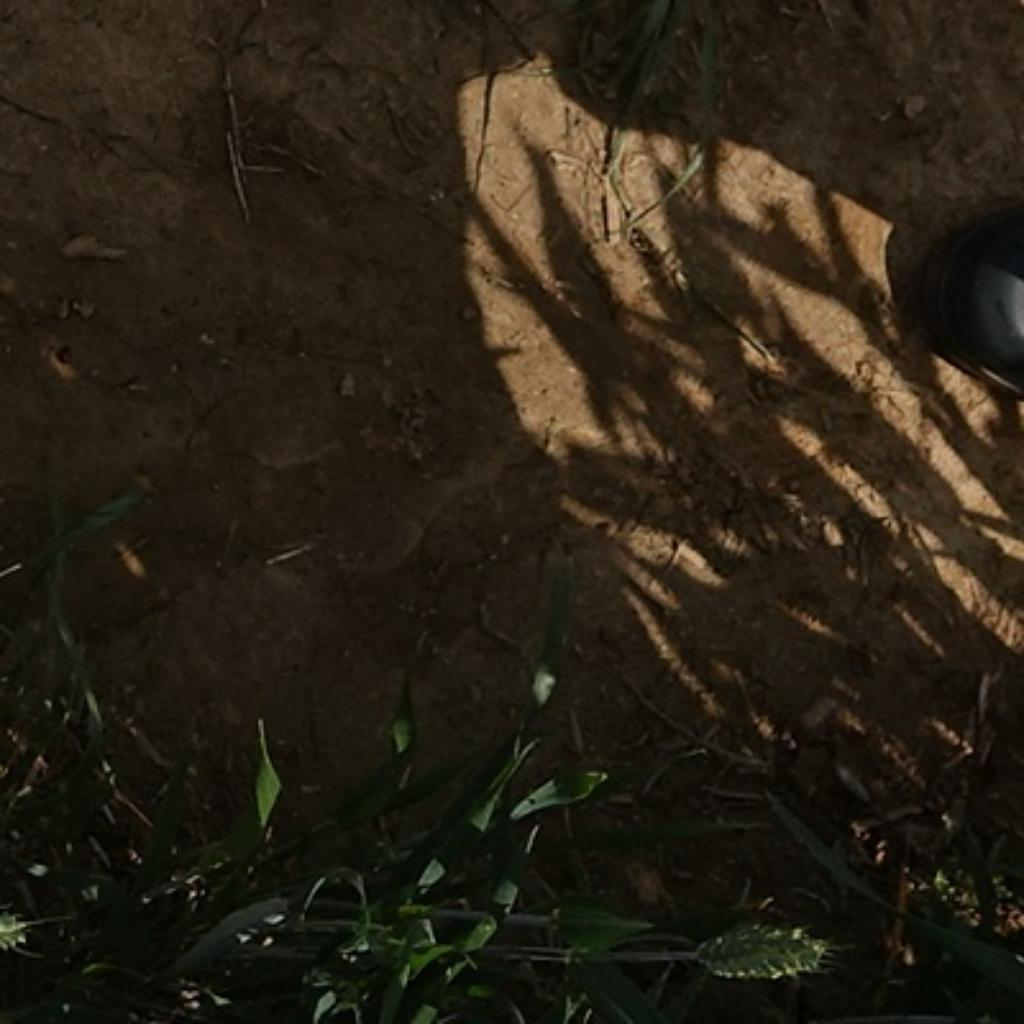0-0: (685, 911, 844, 991)
